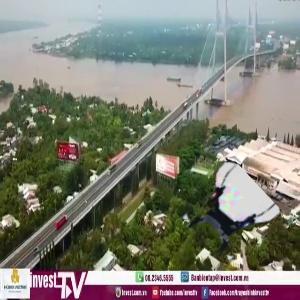drone: (186, 173, 271, 258)
